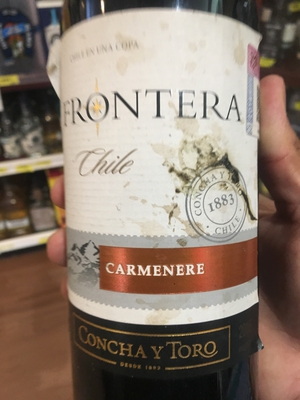frontera carmenere: (53, 3, 256, 400)
